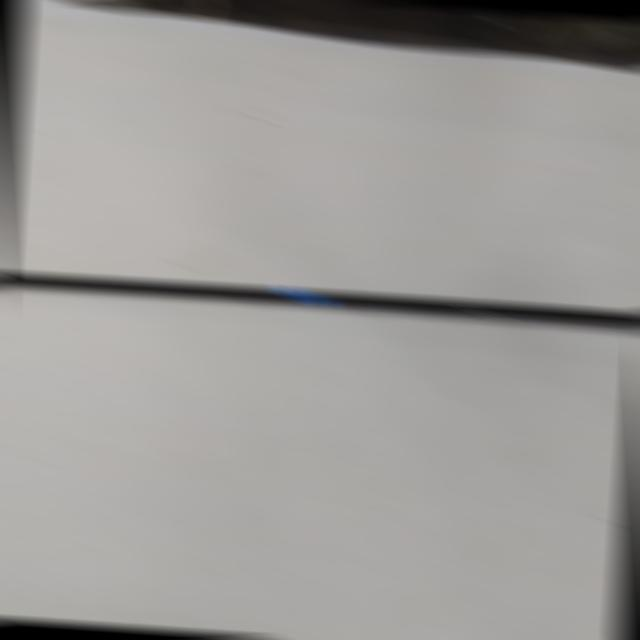blue: (279, 288, 330, 306)
